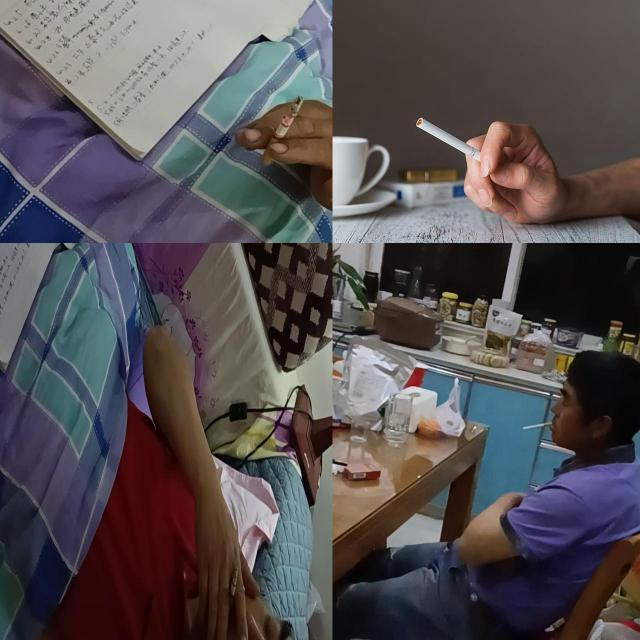smoke: (413, 115, 495, 163), (261, 96, 304, 165), (229, 566, 238, 610), (522, 422, 552, 430)
